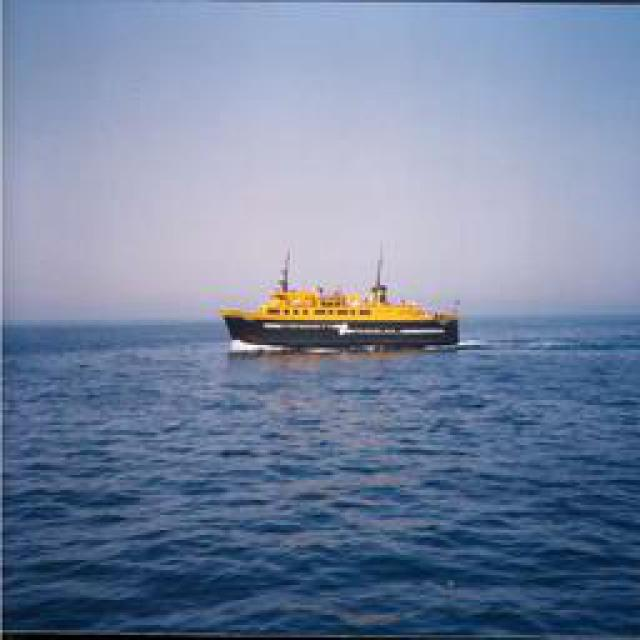Ship: (220, 262, 463, 355)
